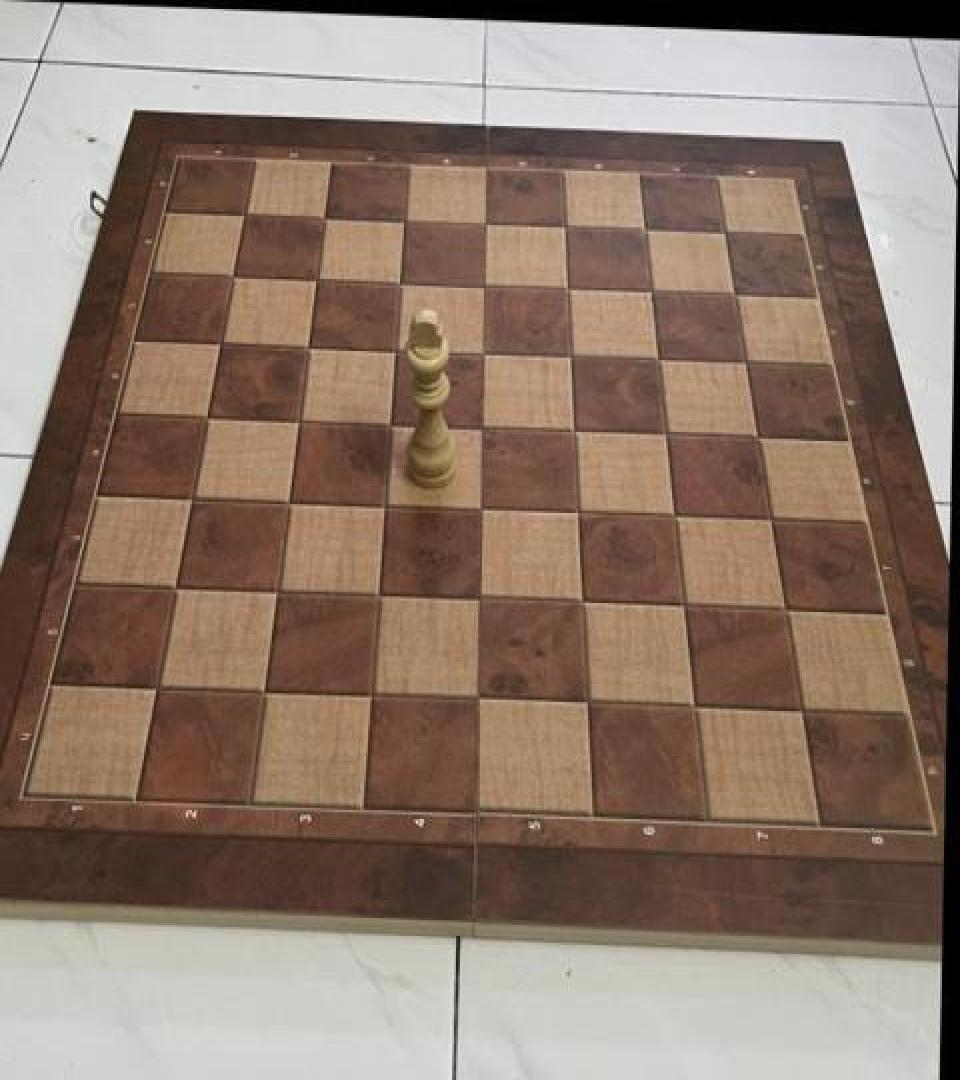xcorner: (706, 210, 744, 254), (548, 266, 586, 310), (297, 256, 335, 300), (727, 340, 765, 384), (463, 330, 501, 374), (201, 320, 239, 364), (647, 412, 685, 456), (188, 394, 226, 438), (766, 590, 804, 634), (459, 678, 497, 722), (138, 664, 176, 708), (626, 207, 664, 250), (385, 198, 423, 241), (305, 195, 343, 238), (225, 193, 263, 236), (716, 272, 754, 315), (632, 270, 670, 313), (464, 263, 502, 306), (213, 253, 251, 296), (639, 338, 677, 381), (551, 334, 589, 377), (376, 327, 414, 370), (288, 324, 326, 367), (739, 416, 777, 459), (555, 410, 593, 453), (463, 405, 501, 448), (279, 398, 317, 441), (752, 499, 790, 542), (655, 495, 693, 538), (558, 491, 596, 534), (462, 487, 500, 530), (269, 479, 307, 522), (664, 586, 702, 629), (461, 578, 499, 621), (258, 569, 296, 612), (783, 693, 821, 736), (567, 683, 605, 726), (545, 204, 583, 246), (465, 202, 503, 244), (380, 260, 418, 302), (371, 402, 409, 444), (365, 484, 403, 526), (173, 476, 211, 518), (562, 582, 600, 624), (359, 574, 397, 616), (156, 566, 194, 608), (675, 688, 713, 730), (352, 674, 390, 716), (245, 670, 283, 712)
